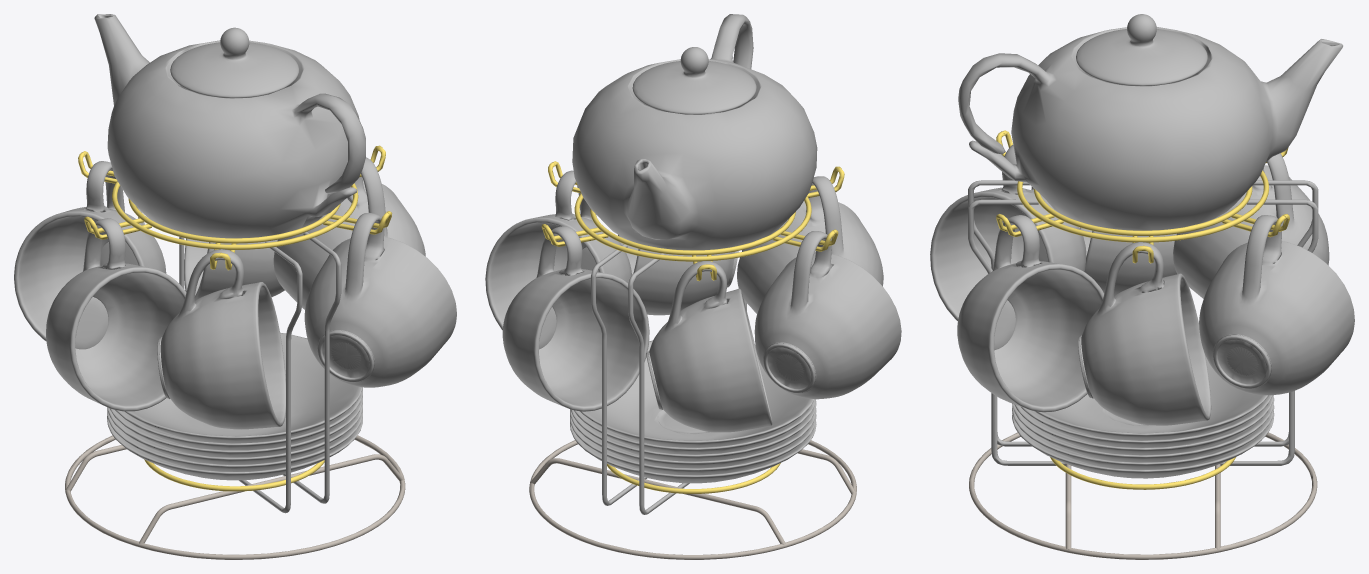
File: 15pcs.glb
3 views of the same model, side by side, from view 1: azimuth 30°, elevation 25°; view 2: azimuth 150°, elevation 25°; view 3: azimuth 270°, elevation 25° (orthographic). The views are drawn at different scales.
Visible parts, largest first — view 1: Cylinder.002, CUP.001, CUP.004, CUP.002, NAALBAKI, CUP.003, Sphere.015, CUP.005, BezierCurve, CUP.006, Torus.002, BezierCurve.003 (+5 smaller); view 2: Cylinder.002, CUP.004, CUP.006, NAALBAKI, CUP.003, CUP.005, CUP.002, Sphere.015, CUP.001, BezierCurve, Torus.002, BezierCurve.003 (+4 smaller); view 3: Cylinder.002, CUP.006, CUP.001, CUP.005, NAALBAKI, CUP.002, Sphere.015, CUP.003, BezierCurve, CUP.004, Torus.002, Torus.006 (+4 smaller).
Part boxes in pixels (left/top/right/bottom): Cylinder.002: left=94, top=14, right=365, bottom=238; CUP.001: left=304, top=212, right=456, bottom=387; CUP.004: left=46, top=218, right=186, bottom=411; CUP.002: left=157, top=249, right=285, bottom=429; NAALBAKI: left=107, top=332, right=362, bottom=480; CUP.003: left=14, top=161, right=166, bottom=341; Sphere.015: left=170, top=27, right=298, bottom=98; CUP.005: left=273, top=157, right=425, bottom=309; BezierCurve: left=137, top=207, right=341, bottom=513; CUP.006: left=184, top=238, right=284, bottom=300; Torus.002: left=65, top=435, right=405, bottom=559; BezierCurve.003: left=66, top=445, right=404, bottom=544; Cylinder.002: left=572, top=14, right=817, bottom=250; CUP.004: left=754, top=231, right=901, bottom=399; CUP.006: left=502, top=226, right=649, bottom=411; NAALBAKI: left=570, top=340, right=816, bottom=483; CUP.003: left=646, top=261, right=772, bottom=432; CUP.005: left=485, top=170, right=631, bottom=330; CUP.002: left=737, top=176, right=883, bottom=313; Sphere.015: left=632, top=47, right=756, bottom=114; CUP.001: left=618, top=234, right=738, bottom=315; BezierCurve: left=591, top=244, right=746, bottom=514; Torus.002: left=529, top=440, right=856, bottom=559; BezierCurve.003: left=530, top=449, right=855, bottom=545; Cylinder.002: left=958, top=27, right=1342, bottom=230; CUP.006: left=1199, top=215, right=1354, bottom=395; CUP.001: left=957, top=215, right=1104, bottom=412; CUP.005: left=1078, top=242, right=1211, bottom=425; NAALBAKI: left=1012, top=356, right=1274, bottom=478; CUP.002: left=930, top=145, right=1086, bottom=321; Sphere.015: left=1076, top=14, right=1207, bottom=85; CUP.003: left=1173, top=153, right=1329, bottom=298; BezierCurve: left=968, top=180, right=1318, bottom=465; CUP.004: left=1080, top=227, right=1176, bottom=295; Torus.002: left=969, top=432, right=1317, bottom=559; Torus.006: left=1017, top=170, right=1268, bottom=242.
Bounding box in the file's own units: 0.2421 × 0.2796 × 0.2283.
